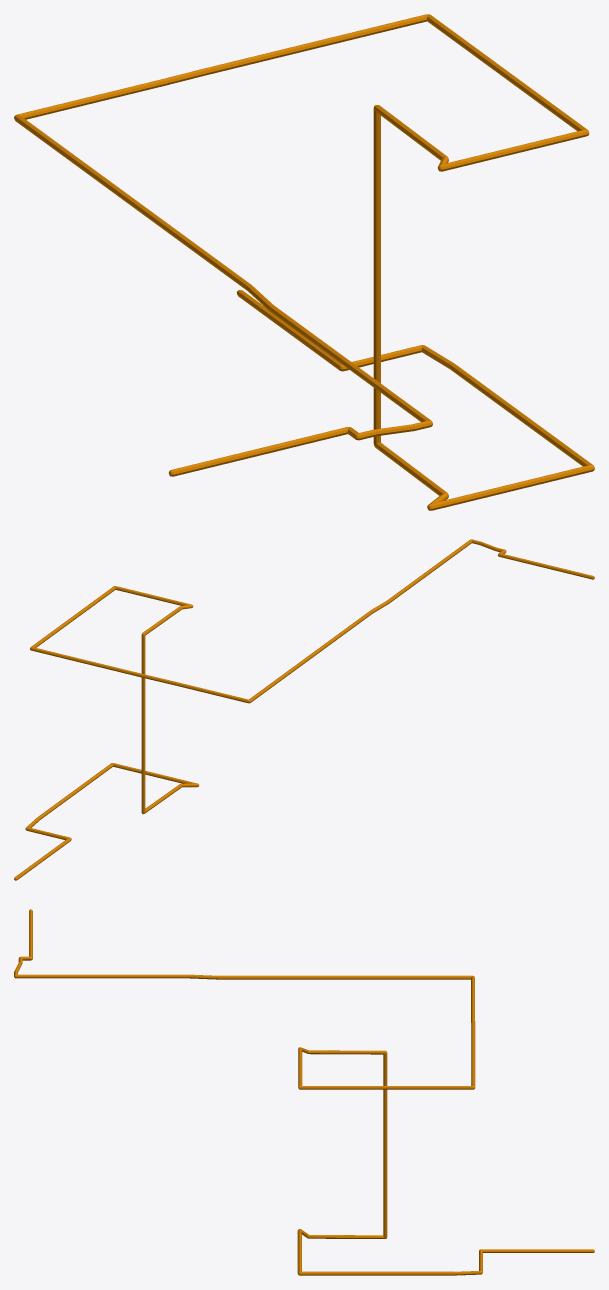
3 views of the same model, one above another, from view 1: azimuth 30°, elevation 25°; view 2: azimuth 150°, elevation 25°; view 3: azimuth 270°, elevation 25° (orthographic). The views are drawn at different scales.
Size of the model in its own units: 2087 by 1020 by 2853.
